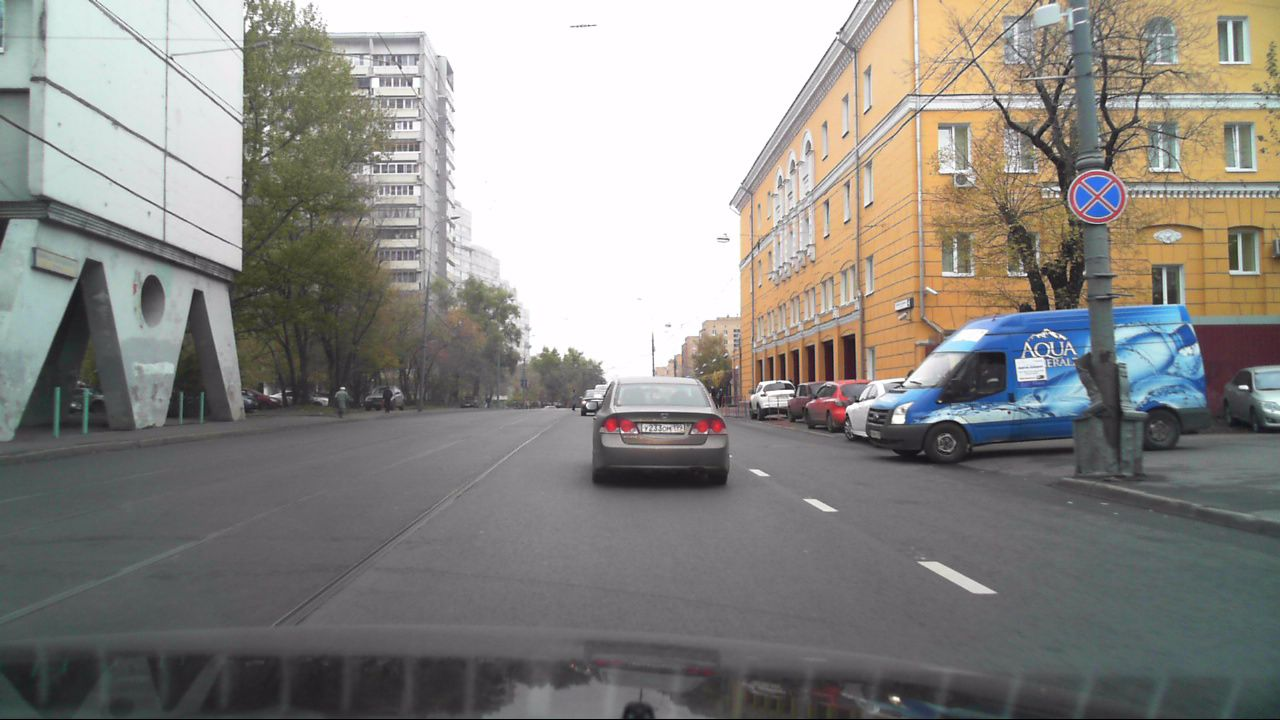No Parking: (1068, 169, 1127, 223)
